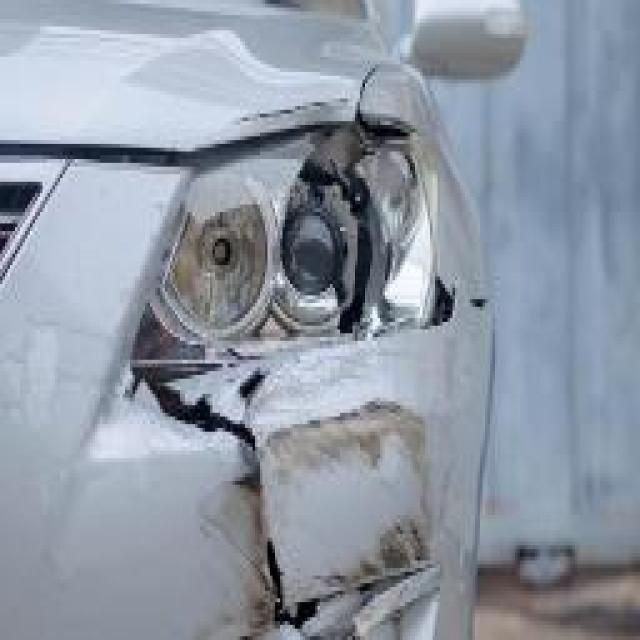Bumper: (67, 275, 495, 640)
Light: (124, 123, 424, 358)
